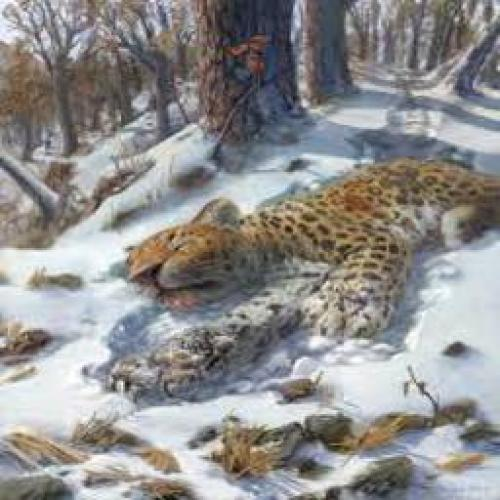amur_leopard-endangered: (144, 159, 493, 321)
